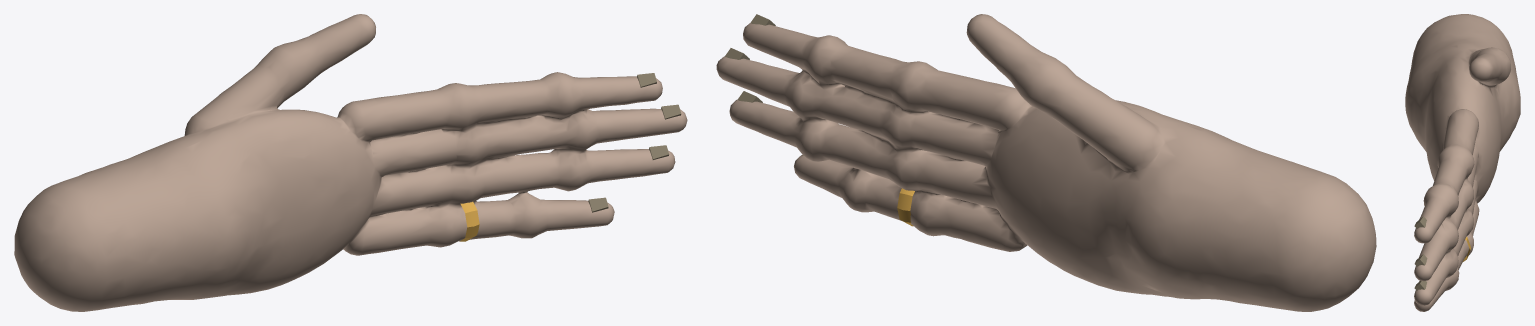
Rendered from e18_hand.glb.
3 renders of one model, left to right at view 1: azimuth 30°, elevation 25°; view 2: azimuth 150°, elevation 25°; view 3: azimuth 270°, elevation 25°, orthographic. The views are drawn at different scales.
Visible parts, largest first — view 1: hand, teil0, teil1; view 2: hand, teil0, teil1; view 3: hand, teil0.
Part boxes in pixels (x1=…): hand: x1=14, y1=14, x2=687, y2=311; teil0: x1=588, y1=73, x2=681, y2=212; teil1: x1=459, y1=201, x2=479, y2=241; hand: x1=716, y1=14, x2=1376, y2=311; teil0: x1=725, y1=14, x2=803, y2=155; teil1: x1=897, y1=188, x2=914, y2=226; hand: x1=1405, y1=14, x2=1520, y2=311; teil0: x1=1414, y1=216, x2=1427, y2=290.
Size of the model in its own units: 0.3099 by 0.1099 by 0.0638.
